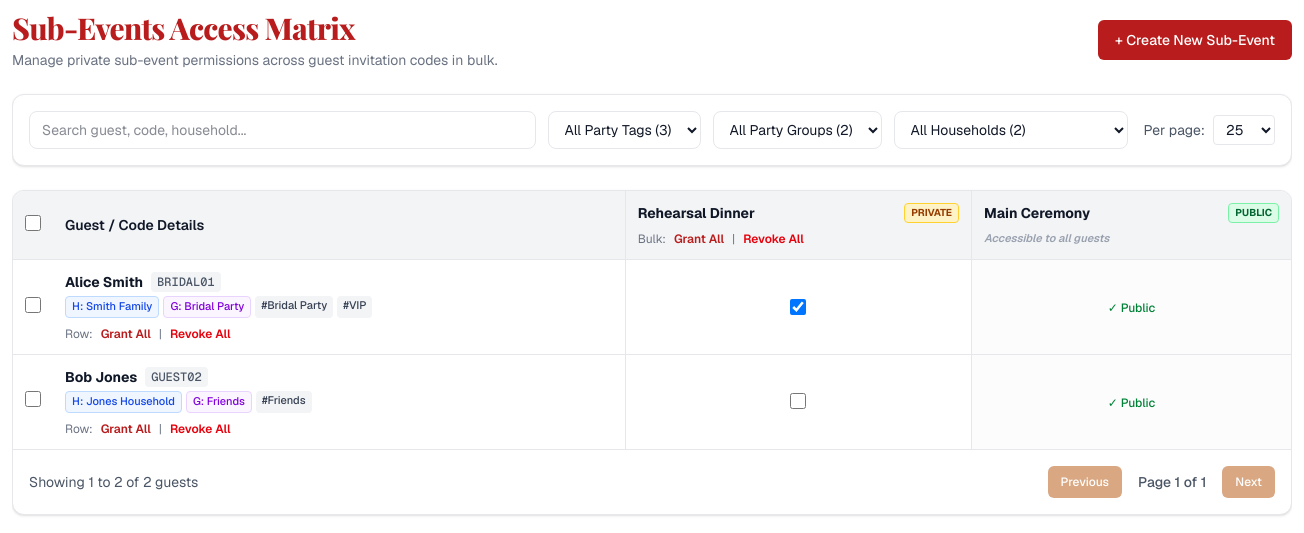
Test: SubEventsMatrixPage › filters guests when search query is typed
The image size is (1304, 533).
Expected: the text "Alice Smith" is shown, [65,272,143,292]
Type "Alice" into the field with placeholder "Search guest, code, household..." at (282, 130), box [29,111,536,149]
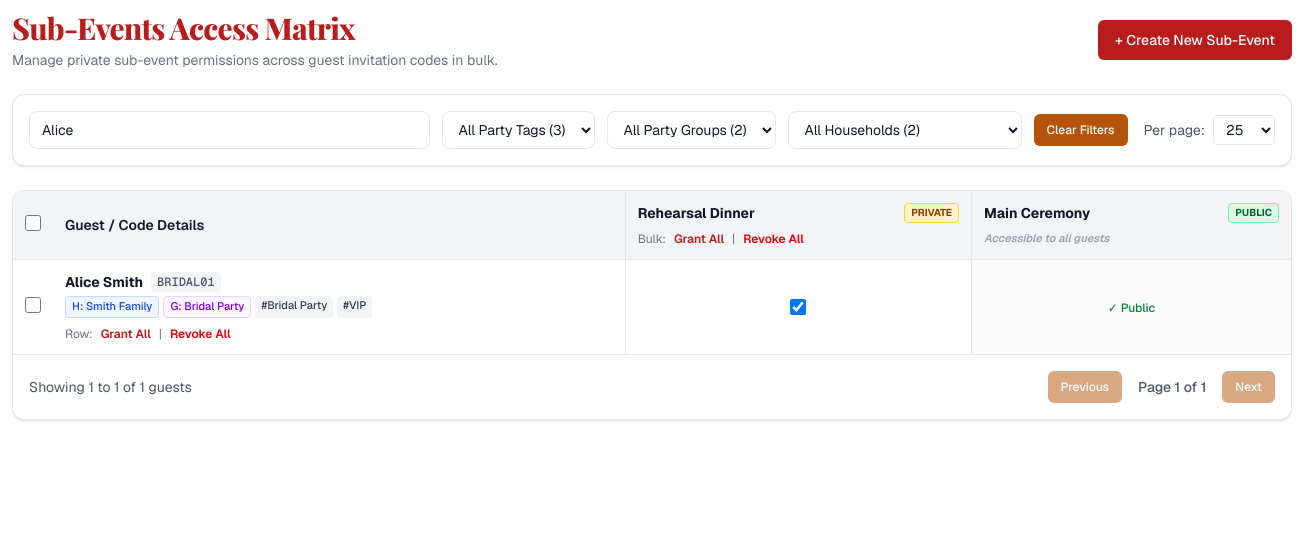
Expected: the text "Alice Smith" is shown, [65,272,143,292]
Result: the text "Bob Jones" is gone
